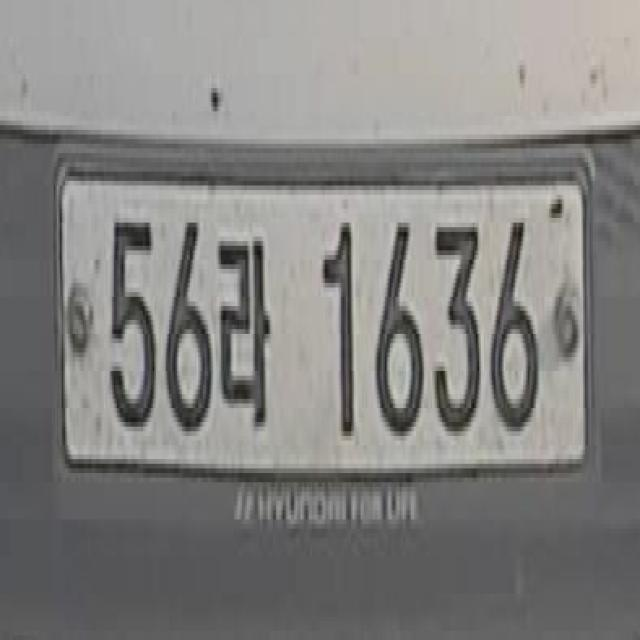illegal_plate: (58, 136, 604, 519)
